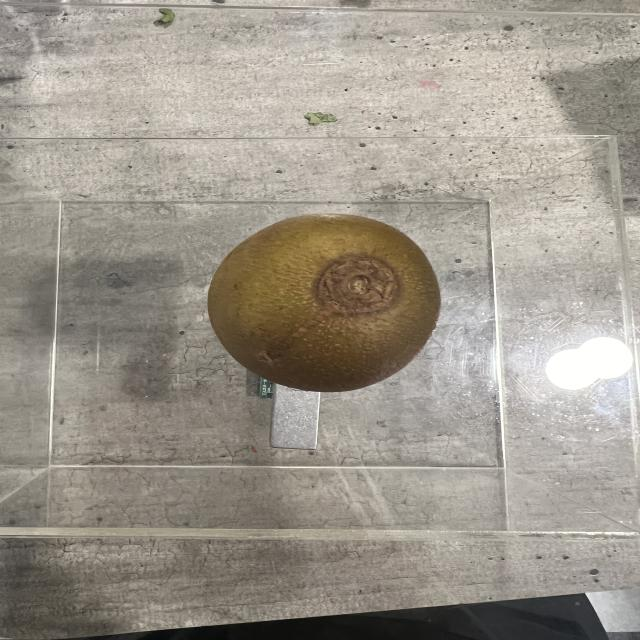kiwi: (208, 216, 441, 394)
